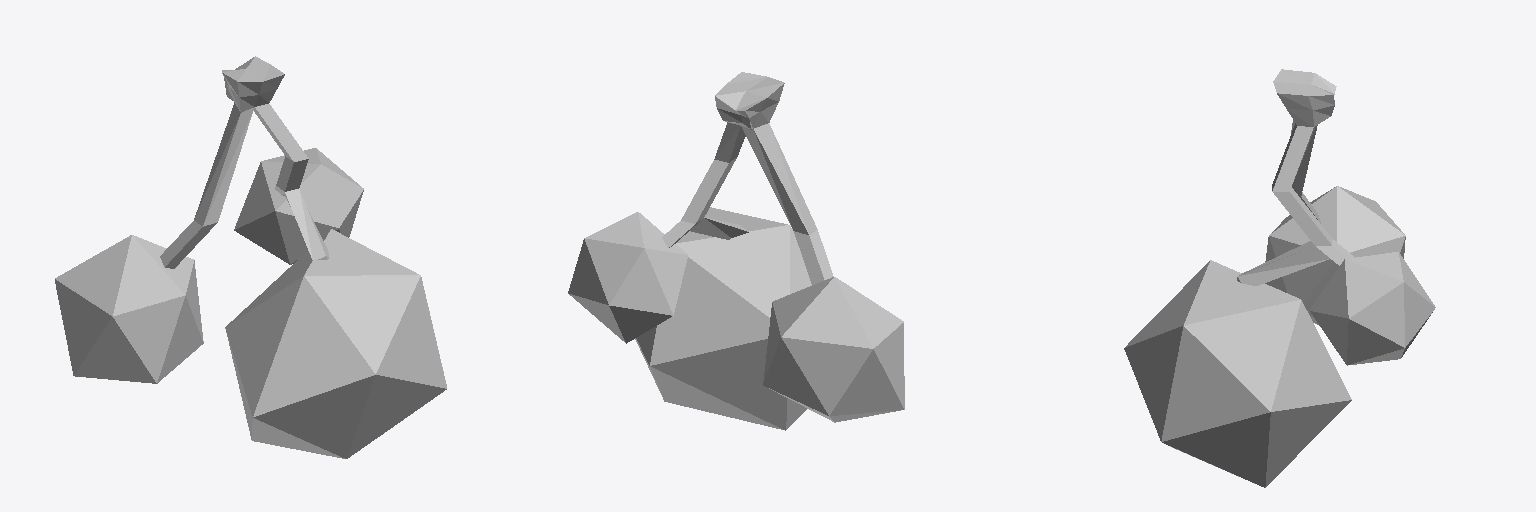
The model's file is Shrub.obj.
3 views of the same model, side by side, from view 1: azimuth 30°, elevation 25°; view 2: azimuth 150°, elevation 25°; view 3: azimuth 270°, elevation 25° (orthographic).
Parts seen in each view (by area): view 1: Cube_Cube.003; view 2: Cube_Cube.003; view 3: Cube_Cube.003.
Part boxes in pixels (x1,y1,x2,y2): Cube_Cube.003: (55, 56, 446, 458); Cube_Cube.003: (568, 72, 904, 430); Cube_Cube.003: (1124, 69, 1435, 487).
Bounding box in the file's own units: 33.04 × 35.26 × 28.